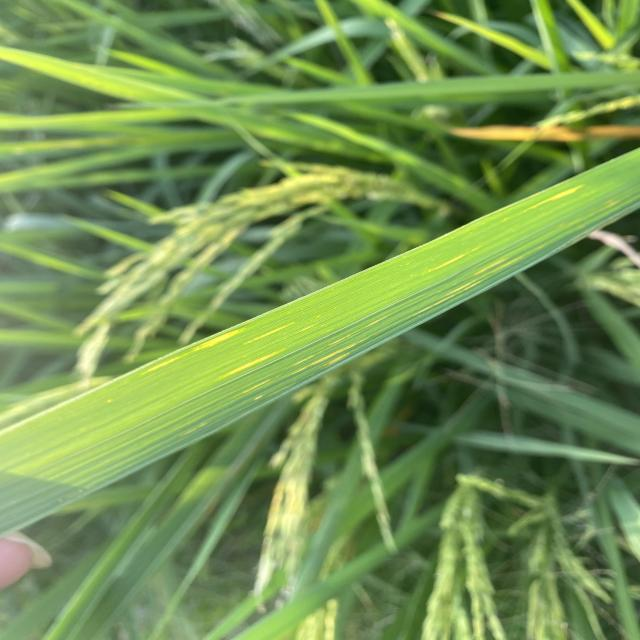Dom soc vi khuan: (291, 339, 366, 375), (216, 348, 285, 380), (193, 328, 245, 352), (245, 321, 295, 344), (147, 353, 187, 372), (327, 352, 350, 365)
